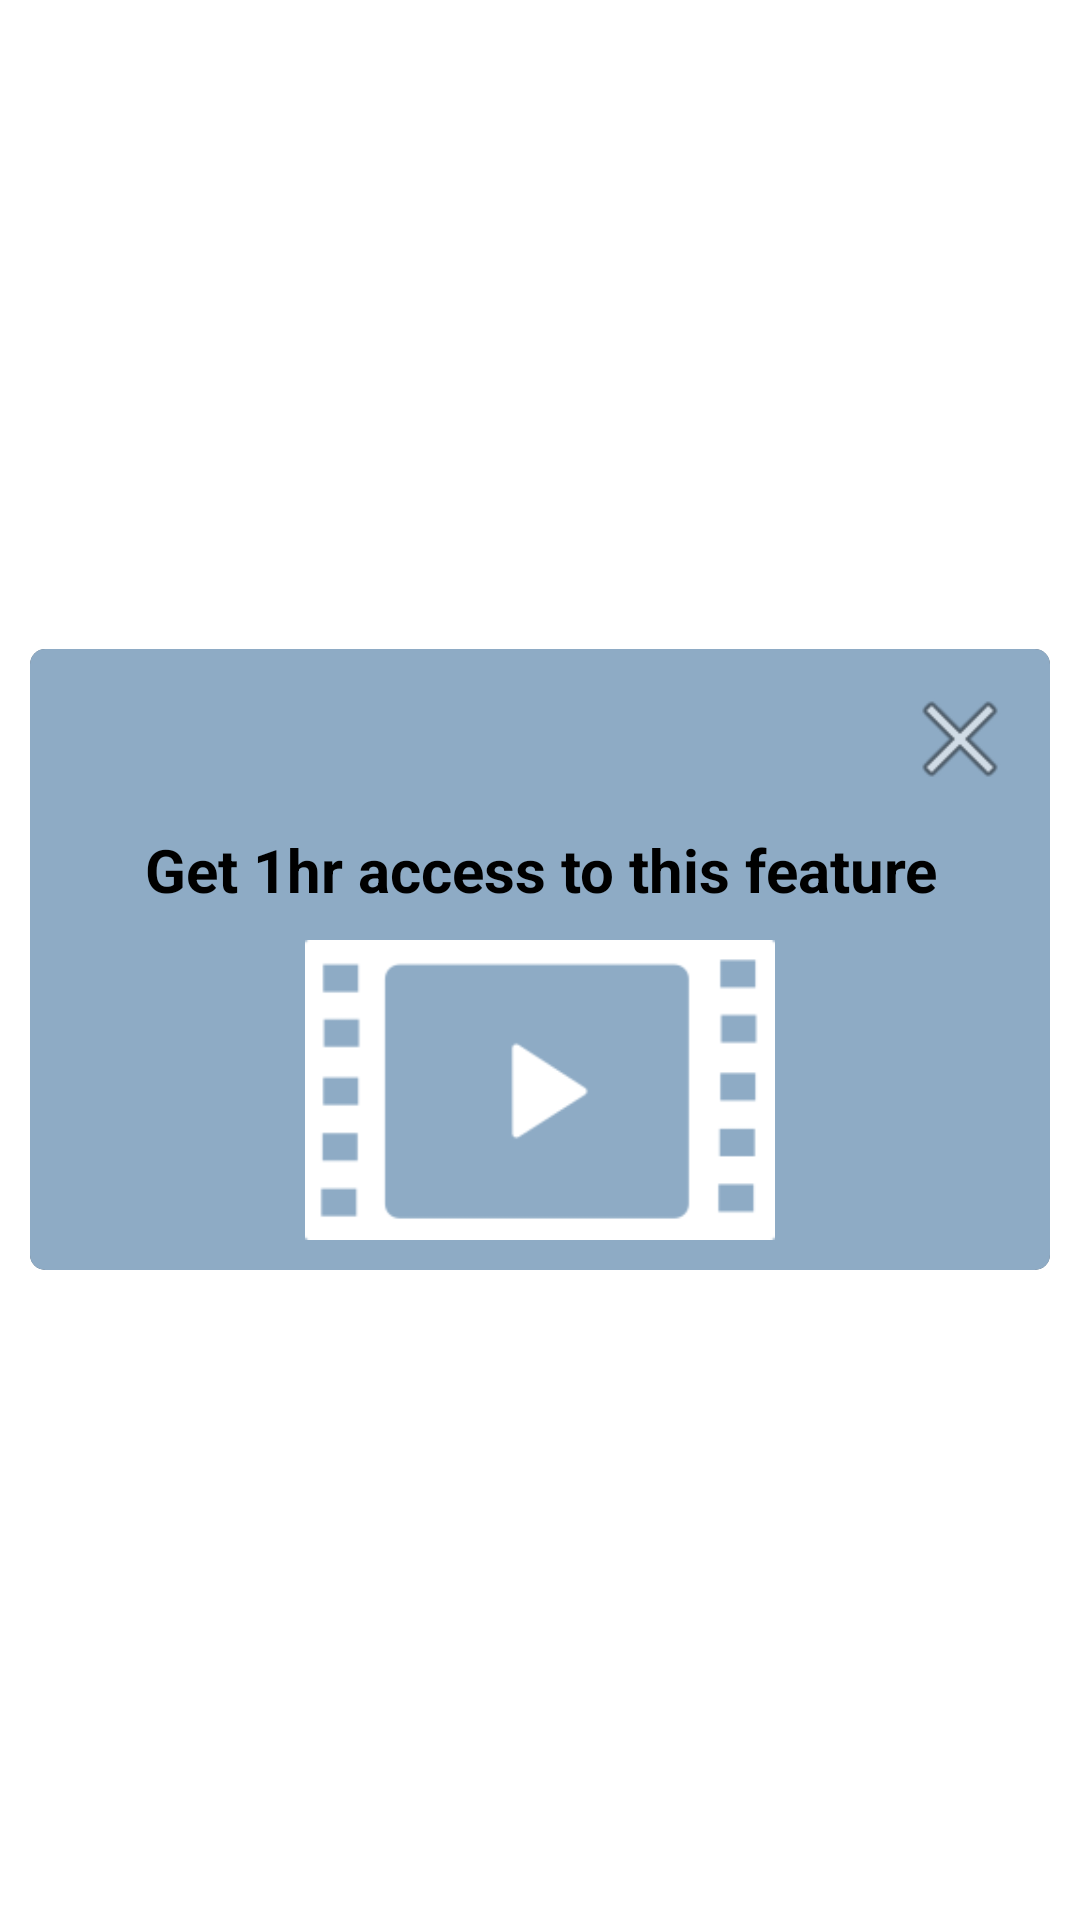

Icons on this 1080*1920 Android screen, each with its box as (x1,y1,x2,y2):
close clear cancel: (923,702,997,776)
